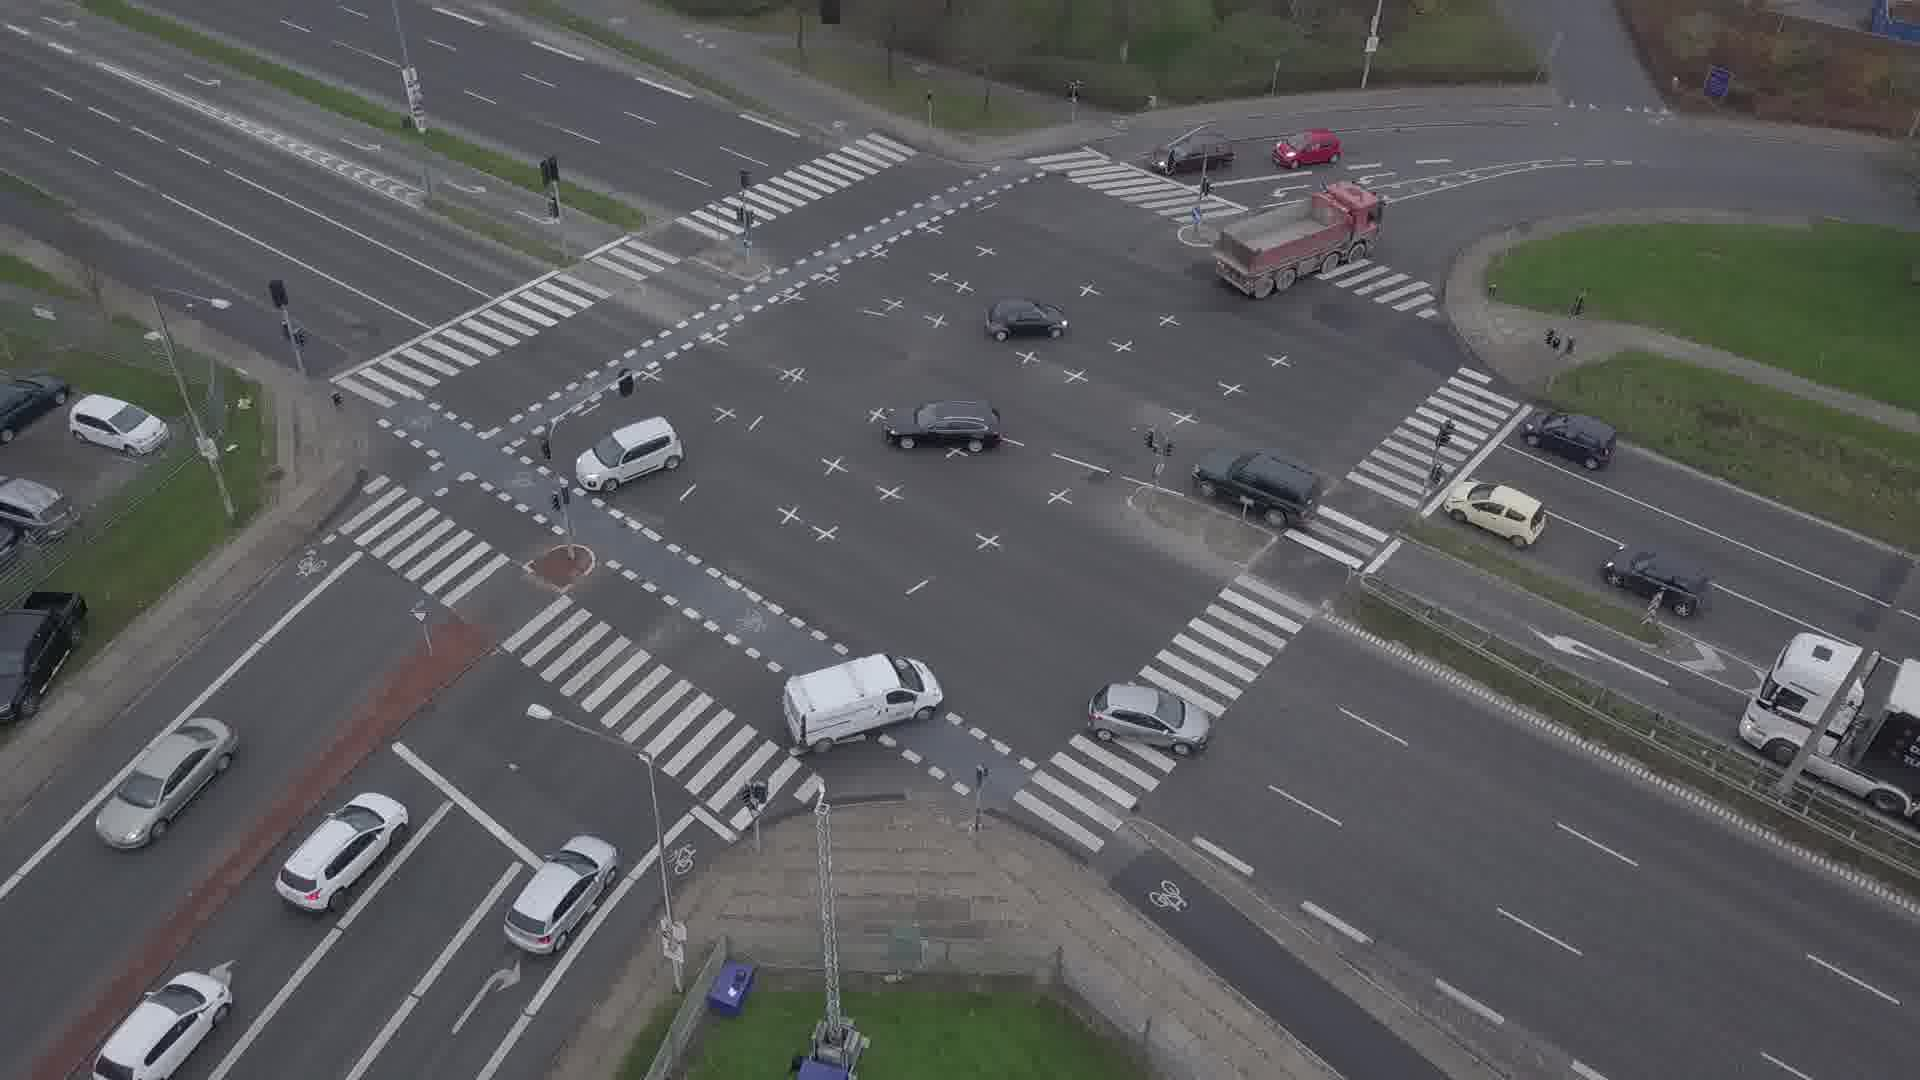car: (96, 717, 239, 849), (275, 792, 409, 912), (91, 971, 233, 1080), (503, 835, 619, 955), (1191, 450, 1323, 528), (1087, 683, 1211, 755), (574, 415, 684, 493), (1602, 545, 1708, 616), (1443, 480, 1546, 546), (885, 400, 1006, 452), (1519, 408, 1617, 469), (985, 298, 1071, 341), (1152, 131, 1234, 173), (1270, 128, 1344, 168)
lorry: (1209, 179, 1384, 299), (781, 653, 944, 756)
